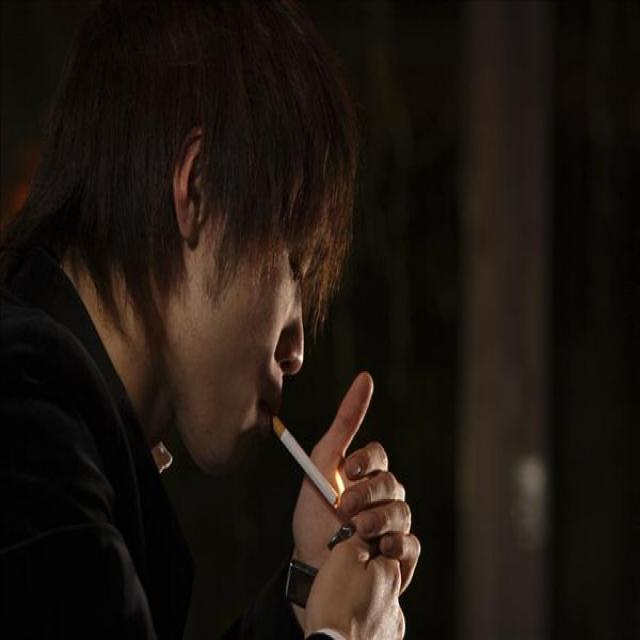smoking: (270, 406, 342, 509)
